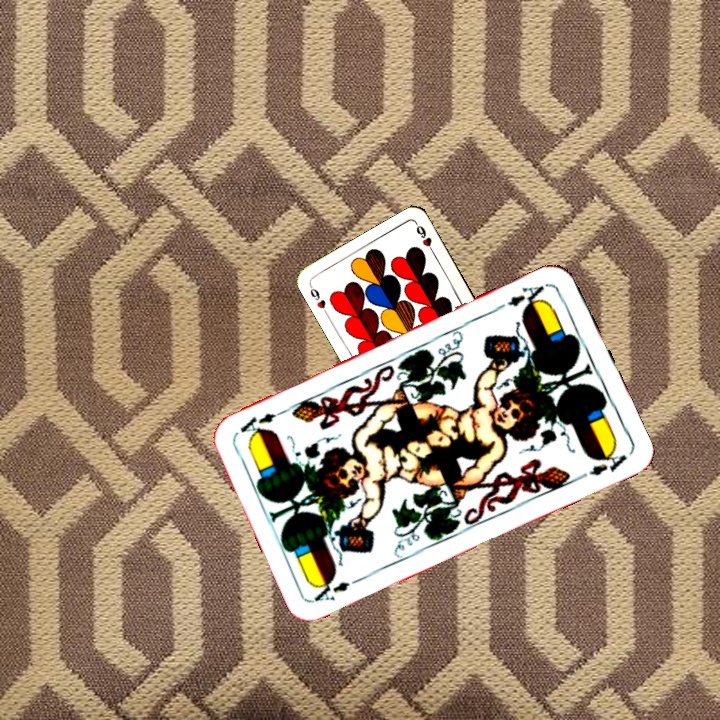EA: (310, 572, 366, 604), (503, 279, 551, 313)
H9: (306, 281, 328, 311)
